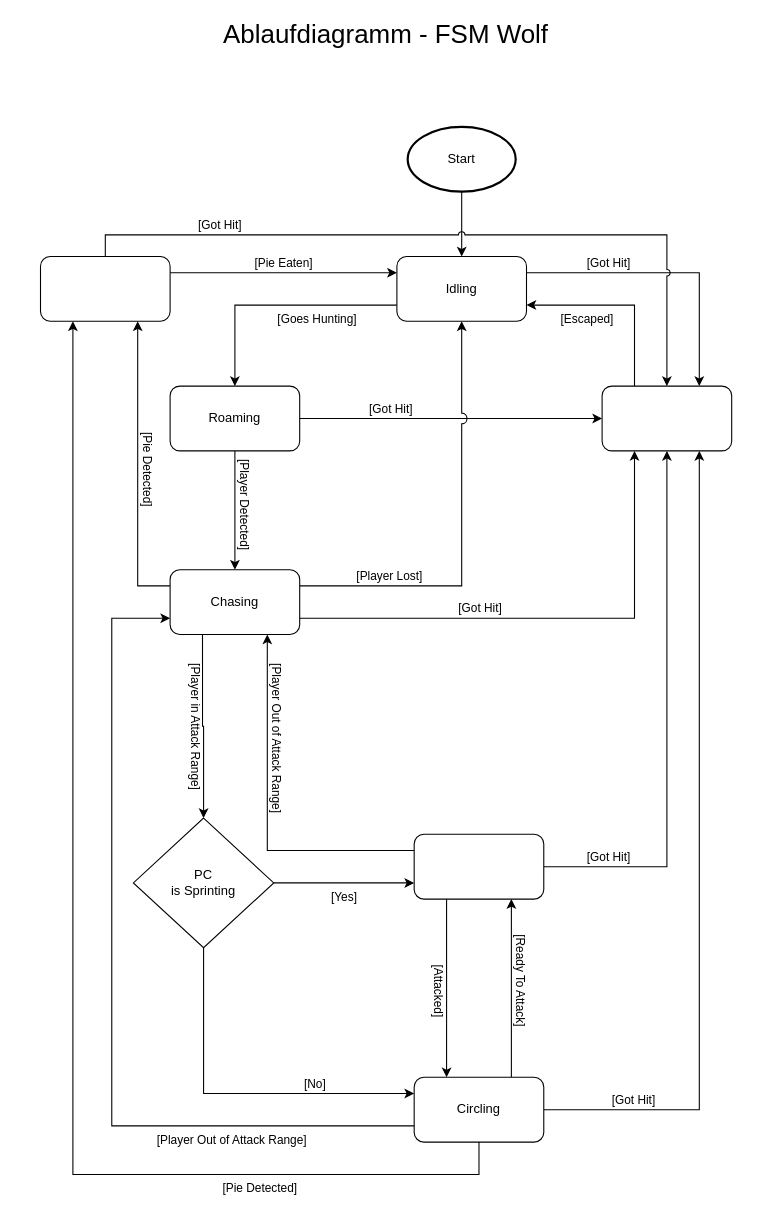
Image size: 771x1214. Some labels were removed from this diagram. Here are the shapes that lost their labels. From the top down, the box of each, then its label:
(39, 255, 170, 321): Distracted
(601, 385, 732, 451): Fleeing
(413, 833, 544, 899): Attacking
